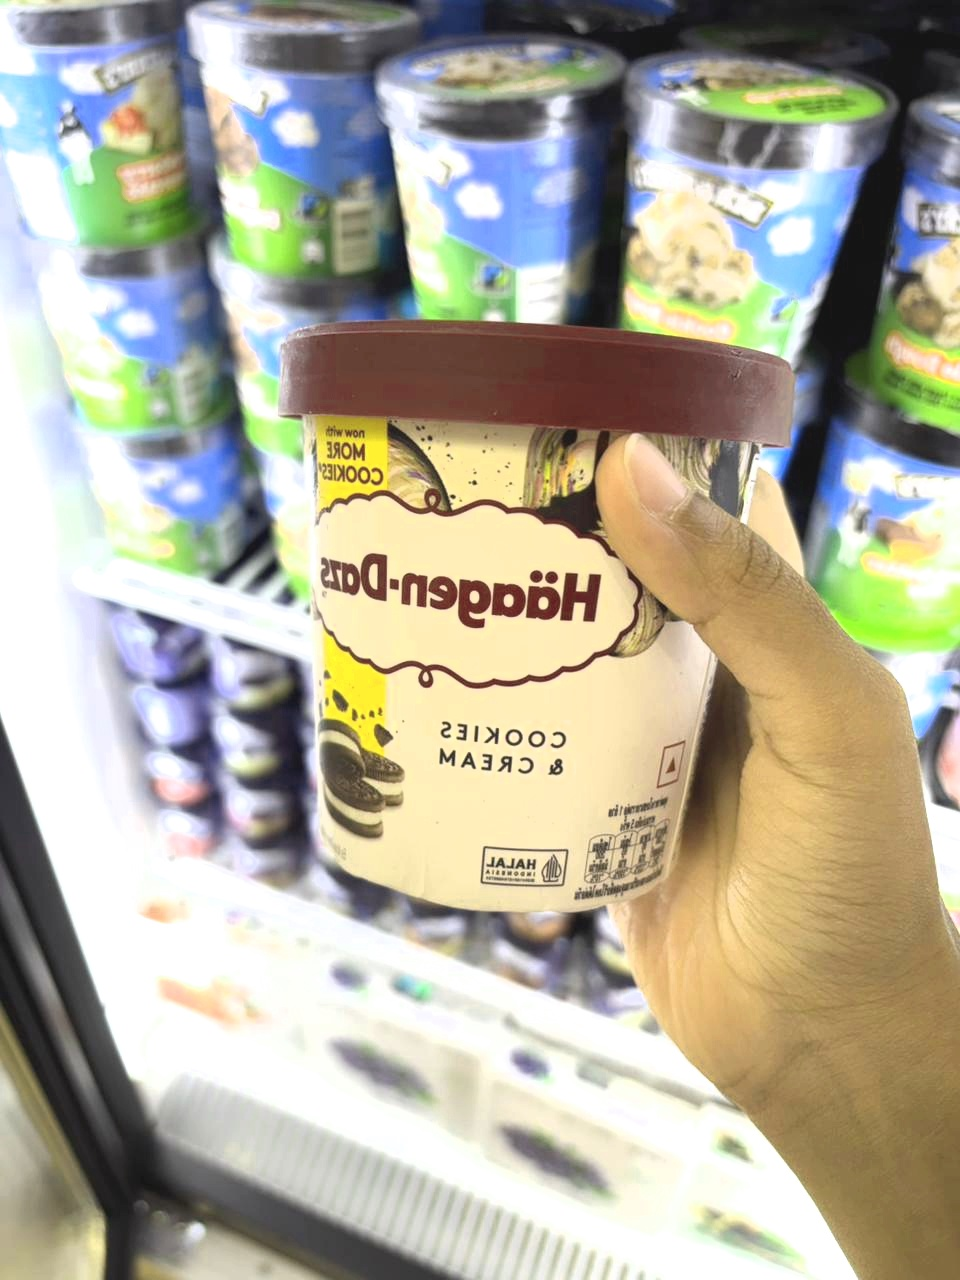Haagen-Dazs IceCream Tub: (255, 312, 806, 948)
